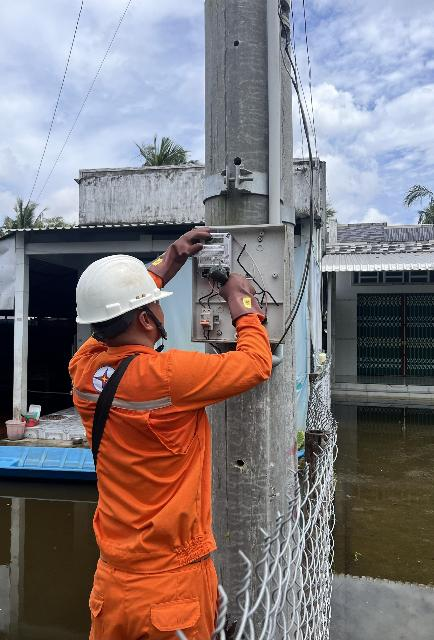gloves: (137, 215, 212, 277), (210, 266, 275, 323)
helmet: (68, 253, 168, 325)
